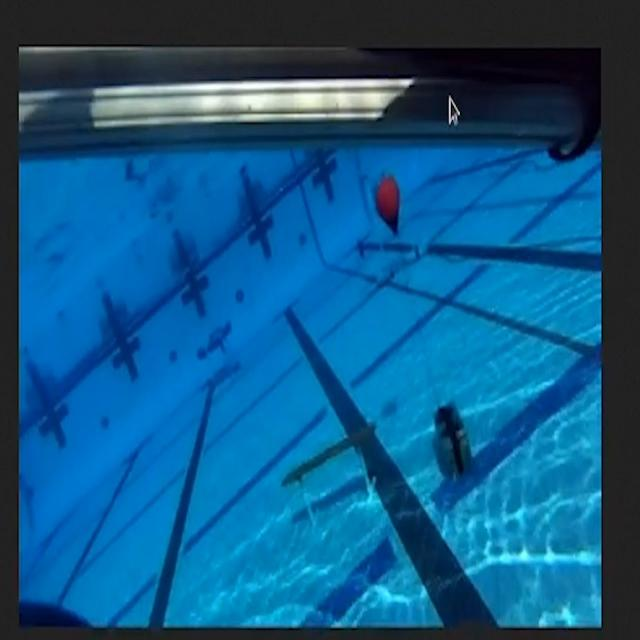Buoy: (364, 169, 421, 265)
Path: (277, 411, 392, 528)
